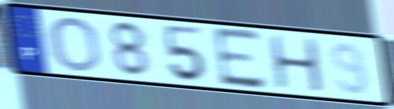5: (160, 22, 210, 84)
8: (107, 19, 155, 79)
9: (329, 40, 372, 97)
E: (210, 25, 269, 92)
H: (267, 34, 328, 95)
O: (49, 14, 104, 74)
